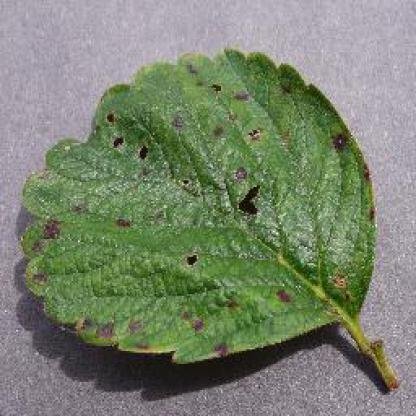leaf scorch: (15, 39, 403, 403)
